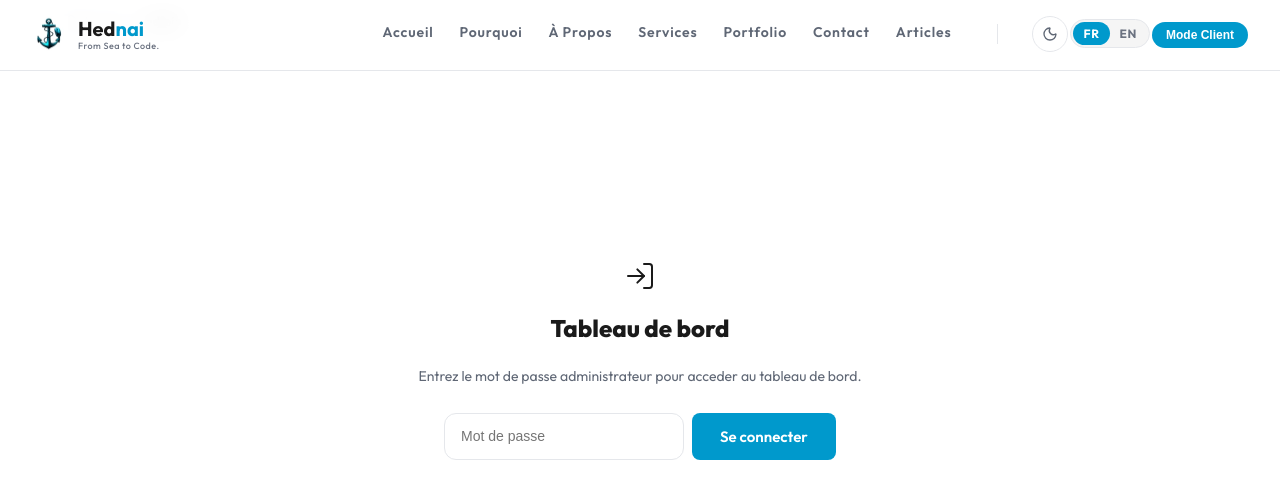
Scenario: Dashboard admin › refuse un mot de passe incorrect
Type "mauvais-token" into the password field with placeholder "Mot de passe" at (564, 437), box top-left (444, 413), bottom-right (684, 460)
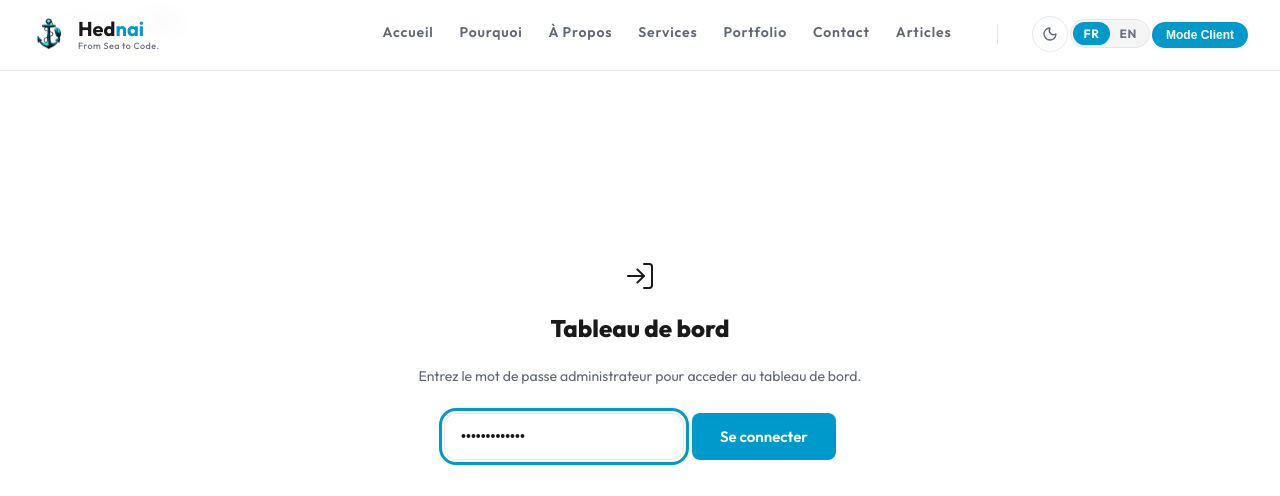
Click the button with class "btn--primary" at (764, 437), box top-left (692, 413), bottom-right (836, 460)
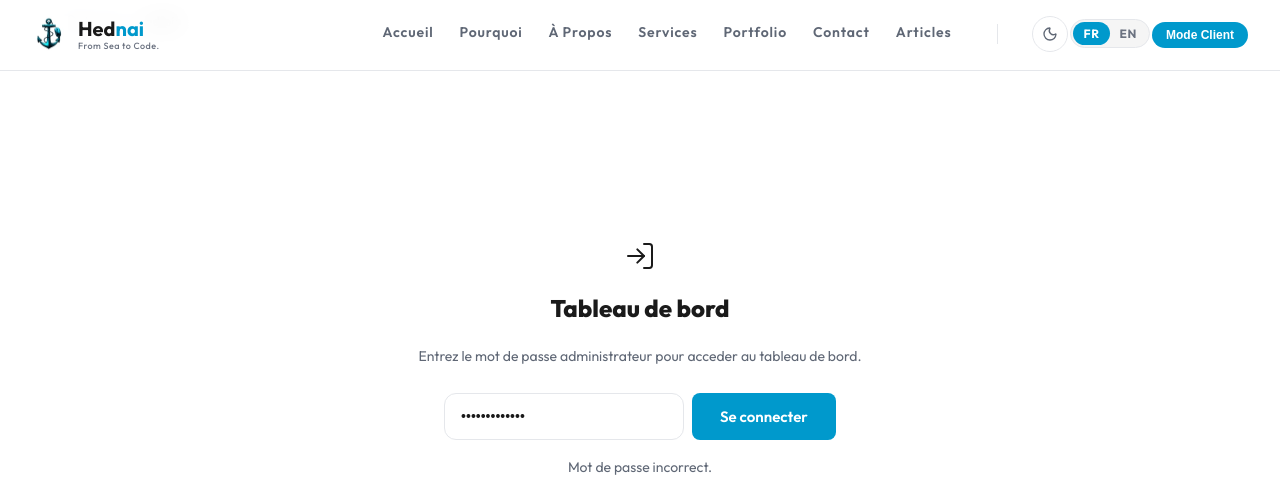
Now the text "Mot de passe incorrect." is shown, box top-left (568, 456), bottom-right (712, 480)
